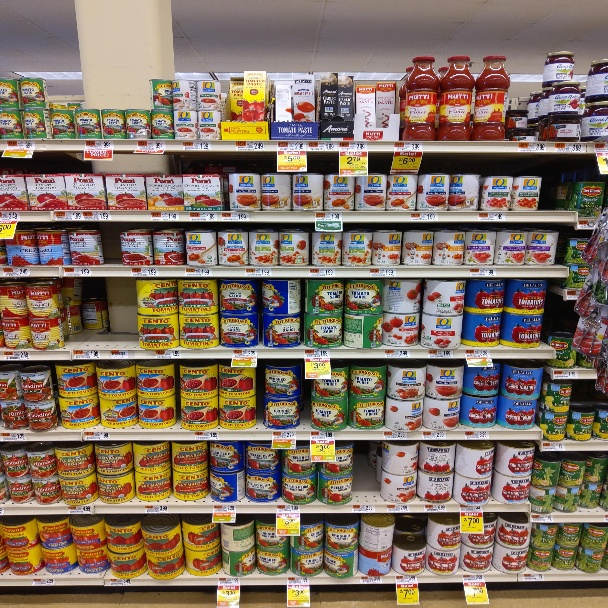All PRICE TAGS: (556, 142, 588, 152), (517, 142, 548, 152), (73, 349, 101, 359), (54, 211, 82, 221), (3, 267, 30, 277), (63, 267, 90, 277), (6, 140, 35, 149), (85, 140, 114, 149), (237, 142, 266, 151), (278, 141, 307, 150), (150, 212, 179, 221), (183, 141, 211, 150), (190, 212, 218, 221), (394, 142, 421, 151), (155, 350, 181, 359), (341, 142, 367, 151), (223, 212, 249, 221), (131, 267, 157, 276), (185, 267, 211, 276), (469, 268, 495, 277), (2, 352, 30, 360), (137, 141, 164, 149), (479, 213, 506, 221), (90, 211, 111, 221), (313, 142, 339, 150), (316, 213, 342, 221), (412, 213, 438, 221), (245, 268, 271, 276), (304, 350, 330, 358), (542, 442, 565, 451), (465, 431, 490, 439), (1, 433, 26, 441), (370, 269, 395, 277), (232, 349, 257, 357), (384, 431, 408, 439), (428, 350, 452, 358), (385, 350, 409, 358), (554, 370, 578, 378), (218, 578, 241, 586), (352, 505, 375, 513), (276, 505, 299, 513), (145, 505, 168, 513), (195, 432, 218, 440), (86, 431, 109, 439), (32, 578, 55, 586), (67, 506, 90, 514), (309, 269, 335, 276), (1, 211, 19, 221), (424, 504, 446, 512), (387, 505, 409, 513), (422, 432, 446, 439), (310, 432, 334, 439), (465, 350, 489, 357), (532, 515, 553, 523), (459, 505, 482, 512), (213, 505, 236, 512), (272, 432, 295, 439), (462, 575, 484, 582), (361, 577, 383, 584), (287, 578, 309, 585), (523, 574, 544, 581), (109, 351, 127, 359), (395, 577, 417, 583), (108, 579, 130, 585), (579, 221, 595, 228), (566, 290, 578, 299)
